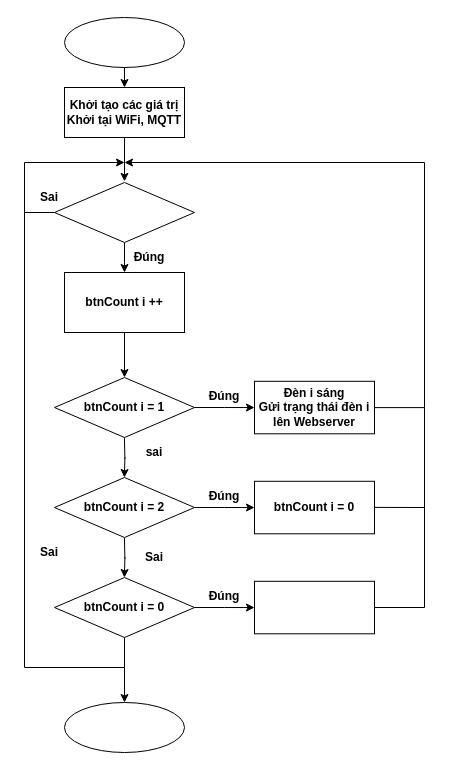
This 450x770 diagram has some shape labels left out. Each missing label, with the centre of its shape:
"Bắt đầu" goes at (124,42).
"Kết thúc" goes at (124,727).
"Nhấn nút i 1<=i<=6" goes at (124,212).
"Đèn i tắt Gửi trạng thái đèn i lên Webserver" goes at (314,607).
